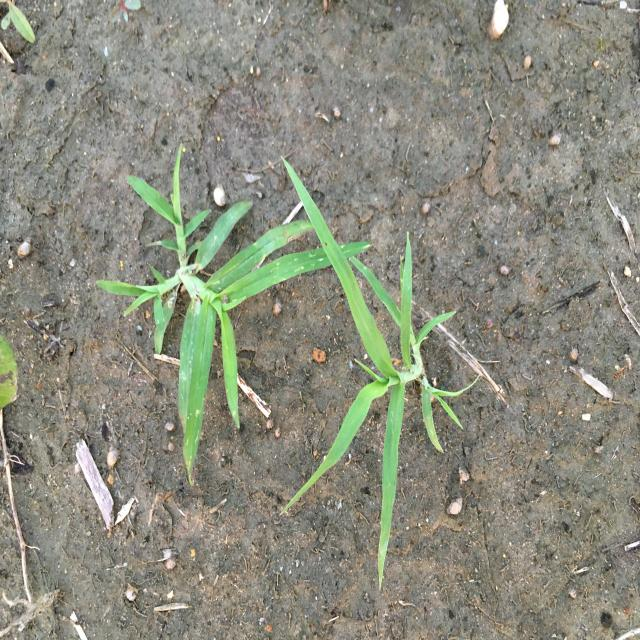Goosegrass: (94, 139, 375, 488), (277, 153, 483, 591)
